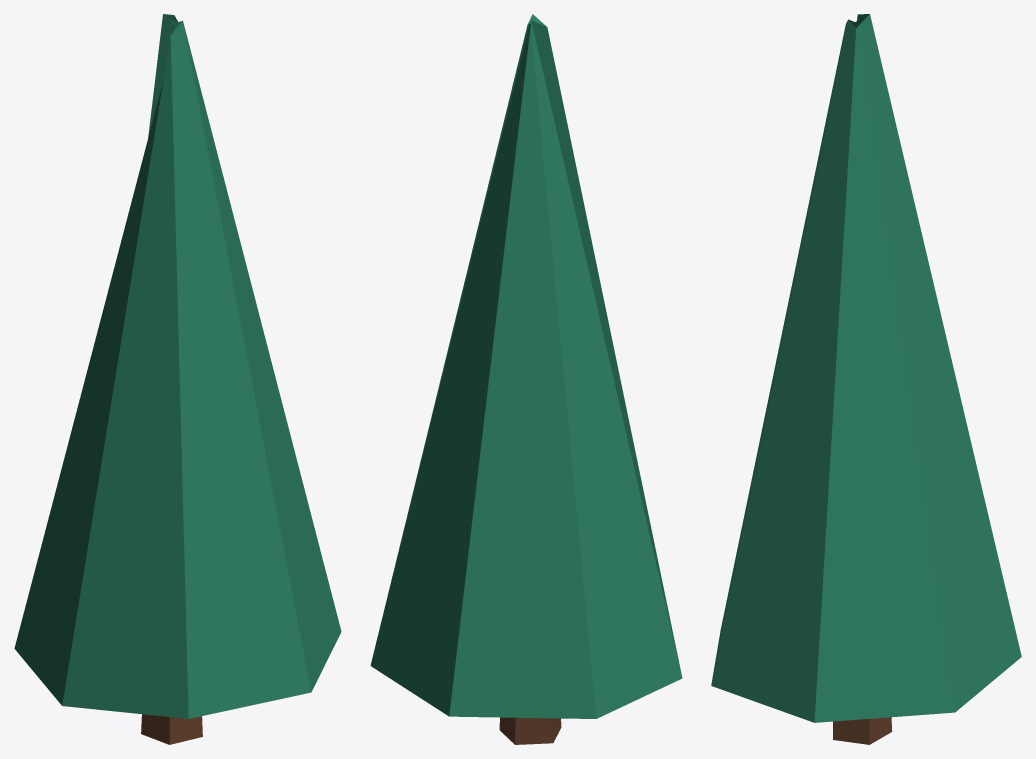
The model's file is tree_cypress_0.glb.
3 views of the same model, side by side, from view 1: azimuth 30°, elevation 25°; view 2: azimuth 150°, elevation 25°; view 3: azimuth 270°, elevation 25° (orthographic).
Visible parts, largest first — view 1: tree_cypress_0; view 2: tree_cypress_0; view 3: tree_cypress_0.
Boxes of the visible parts, <box> form: tree_cypress_0: <box>14,14,341,744</box>; tree_cypress_0: <box>370,14,682,744</box>; tree_cypress_0: <box>711,14,1021,744</box>.
Bounding box in the file's own units: 1.37 × 3.39 × 1.33.
